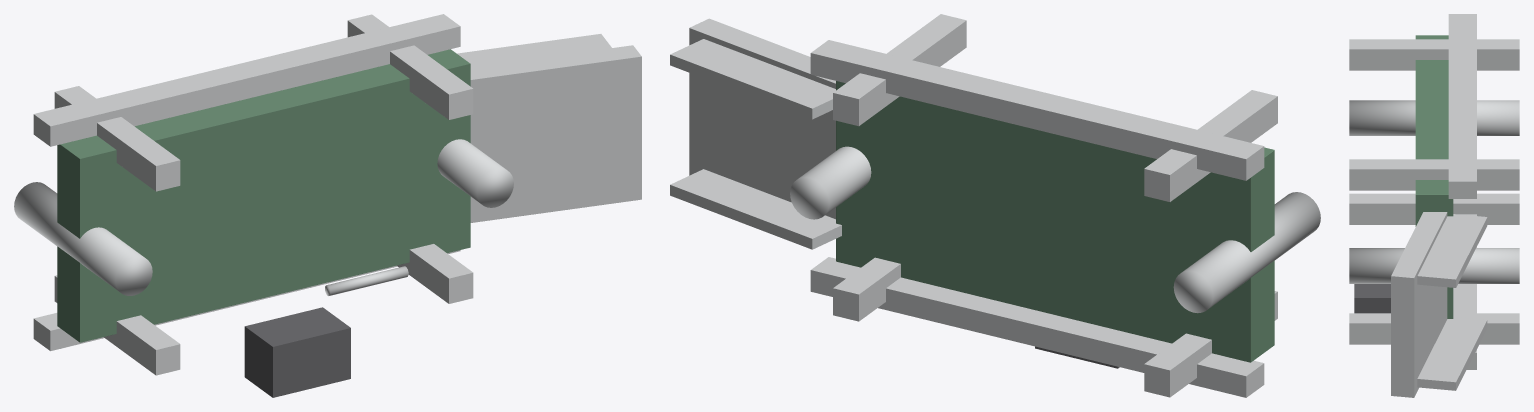
Rendered from infeed-conveyor.glb.
The picture shows the model from 3 angles, left to right: view 1: azimuth 30°, elevation 25°; view 2: azimuth 150°, elevation 25°; view 3: azimuth 270°, elevation 25°; orthographic projection. The views are drawn at different scales.
Parts seen in each view (by area): view 1: belt, transition_funnel, side_rail_right, motor_housing, tail_roller, leg_2, leg_4, head_roller, leg_1, leg_3, funnel_wall_right, side_rail_left (+1 smaller); view 2: belt, side_rail_right, transition_funnel, side_rail_left, tail_roller, funnel_wall_right, funnel_wall_left, leg_4, leg_2, head_roller, leg_1, leg_3; view 3: transition_funnel, side_rail_right, belt, leg_2, leg_4, tail_roller, leg_1, head_roller, funnel_wall_left, funnel_wall_right, leg_3, motor_housing (+1 smaller).
Boxes of the visible parts, left/top/right/bottom form: belt: left=57, top=49, right=470, bottom=342; transition_funnel: left=470, top=45, right=641, bottom=222; side_rail_right: left=33, top=14, right=460, bottom=146; motor_housing: left=244, top=307, right=350, bottom=397; tail_roller: left=14, top=182, right=152, bottom=295; leg_2: left=54, top=86, right=180, bottom=191; leg_4: left=347, top=14, right=473, bottom=119; head_roller: left=437, top=139, right=513, bottom=207; leg_1: left=54, top=275, right=180, bottom=375; leg_3: left=397, top=244, right=473, bottom=303; funnel_wall_right: left=457, top=34, right=611, bottom=67; side_rail_left: left=33, top=250, right=460, bottom=351; belt: left=836, top=81, right=1274, bottom=362; side_rail_right: left=810, top=40, right=1264, bottom=180; transition_funnel: left=689, top=18, right=835, bottom=219; side_rail_left: left=810, top=257, right=1264, bottom=397; tail_roller: left=1173, top=192, right=1320, bottom=313; funnel_wall_right: left=670, top=39, right=835, bottom=119; funnel_wall_left: left=670, top=169, right=841, bottom=249; leg_4: left=833, top=14, right=966, bottom=126; leg_2: left=1144, top=90, right=1277, bottom=201; head_roller: left=790, top=146, right=871, bottom=219; leg_1: left=1144, top=291, right=1277, bottom=397; leg_3: left=833, top=257, right=900, bottom=321; transition_funnel: left=1391, top=212, right=1447, bottom=397; side_rail_right: left=1448, top=14, right=1476, bottom=198; belt: left=1415, top=35, right=1453, bottom=318; leg_2: left=1349, top=39, right=1519, bottom=70; leg_4: left=1349, top=159, right=1519, bottom=190; tail_roller: left=1349, top=100, right=1519, bottom=135; leg_1: left=1349, top=193, right=1519, bottom=224; head_roller: left=1349, top=248, right=1519, bottom=283; funnel_wall_left: left=1417, top=316, right=1487, bottom=390; funnel_wall_right: left=1417, top=214, right=1487, bottom=287; leg_3: left=1349, top=313, right=1519, bottom=344; motor_housing: left=1354, top=284, right=1390, bottom=313.
Bounding box in the file's own units: 1.15 × 0.53 × 0.36.
